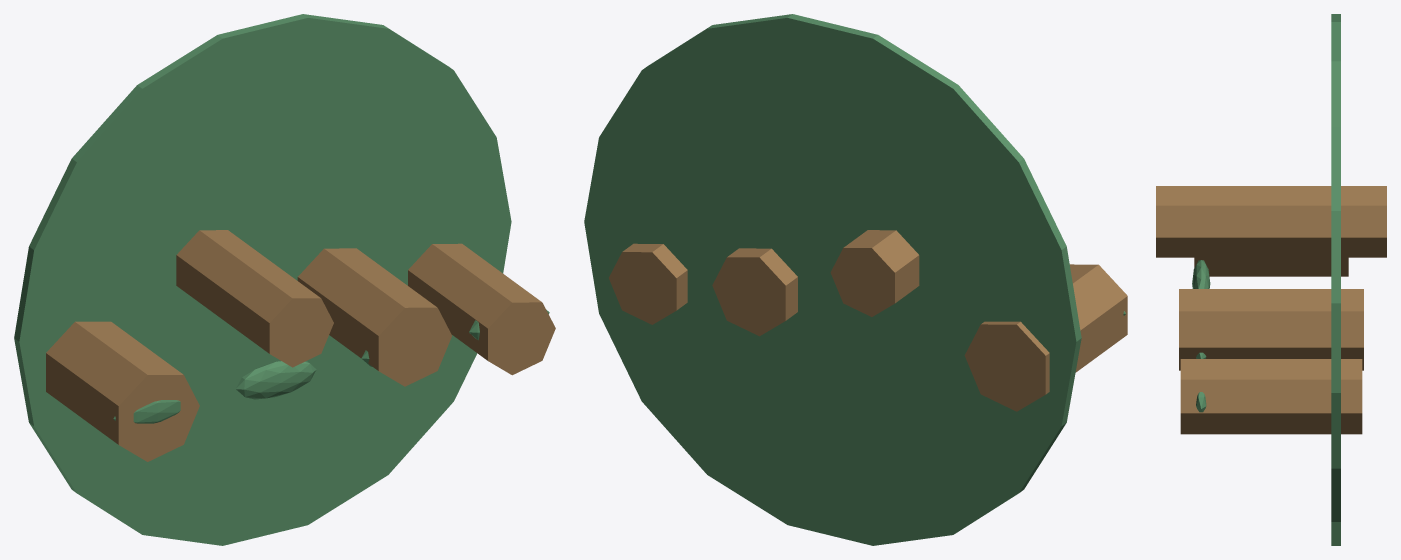
File: 02_display_prop_cluster.glb
3 views of the same model, side by side, from view 1: azimuth 30°, elevation 25°; view 2: azimuth 150°, elevation 25°; view 3: azimuth 270°, elevation 25° (orthographic). The views are drawn at different scales.
Parts seen in each view (by area): view 1: scatter_base, root_stump_0, root_stump_1, root_stump_2, root_stump_3, moss_1, moss_0; view 2: scatter_base, root_stump_0, root_stump_2, root_stump_1, root_stump_3; view 3: root_stump_1, root_stump_3, root_stump_2, scatter_base, root_stump_0, moss_1.
Part boxes in pixels (left/top/right/bottom): scatter_base: left=14, top=14, right=511, bottom=545; root_stump_0: left=46, top=321, right=199, bottom=461; root_stump_1: left=176, top=230, right=333, bottom=367; root_stump_2: left=297, top=248, right=451, bottom=386; root_stump_3: left=408, top=243, right=555, bottom=375; moss_1: left=236, top=361, right=316, bottom=399; moss_0: left=113, top=400, right=180, bottom=423; scatter_base: left=584, top=14, right=1081, bottom=545; root_stump_0: left=964, top=264, right=1127, bottom=411; root_stump_2: left=712, top=248, right=797, bottom=336; root_stump_1: left=830, top=230, right=919, bottom=316; root_stump_3: left=609, top=243, right=687, bottom=324; root_stump_1: left=1156, top=186, right=1386, bottom=257; root_stump_3: left=1180, top=359, right=1362, bottom=434; root_stump_2: left=1179, top=289, right=1363, bottom=370; scatter_base: left=1331, top=14, right=1340, bottom=545; root_stump_0: left=1194, top=257, right=1348, bottom=276; moss_1: left=1192, top=260, right=1210, bottom=288.
Bounding box in the file's own units: 1.9 × 1.87 × 0.8214.
